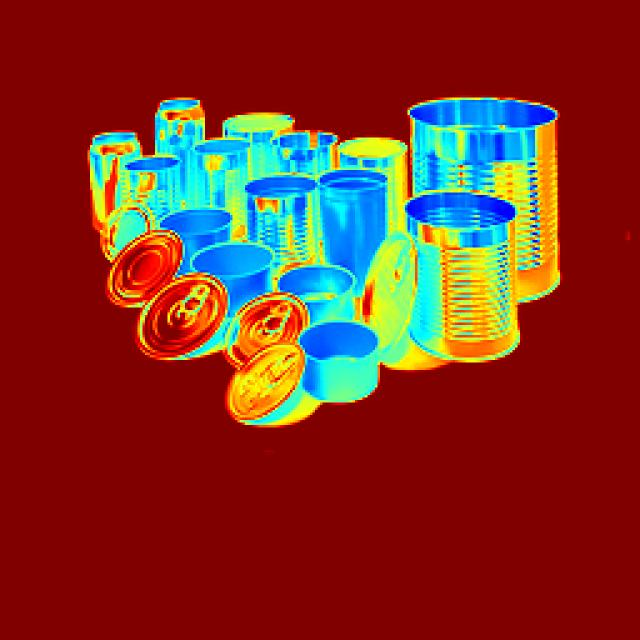Aluminium Food Cans: (403, 86, 572, 298), (402, 200, 524, 358), (302, 319, 380, 435), (312, 178, 388, 274), (189, 240, 273, 326), (247, 171, 315, 255), (82, 130, 136, 229), (278, 256, 355, 322), (162, 194, 232, 264), (160, 91, 203, 162)
